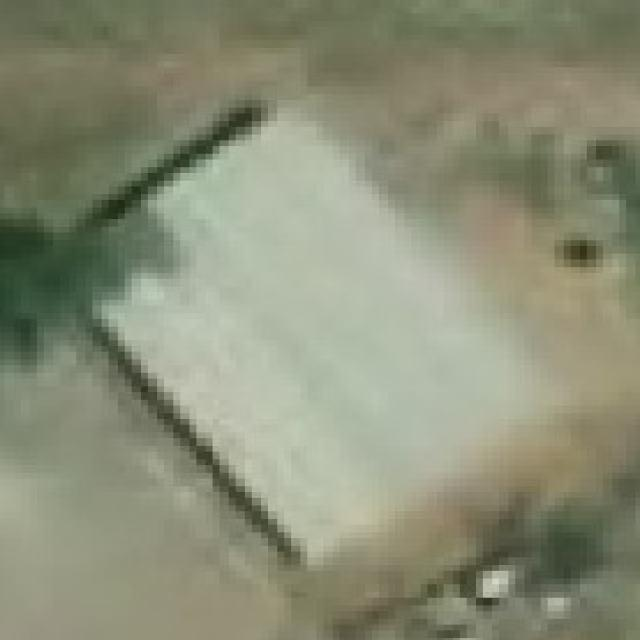Batiment: (105, 114, 511, 562)
